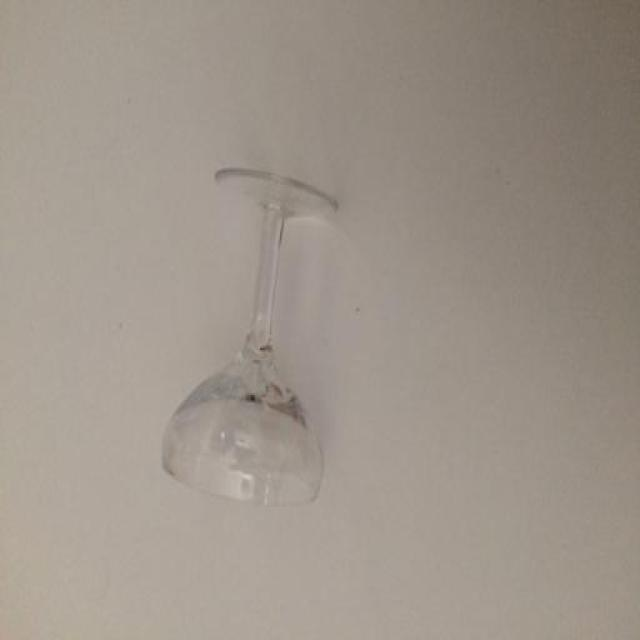glass: (161, 167, 335, 505)
